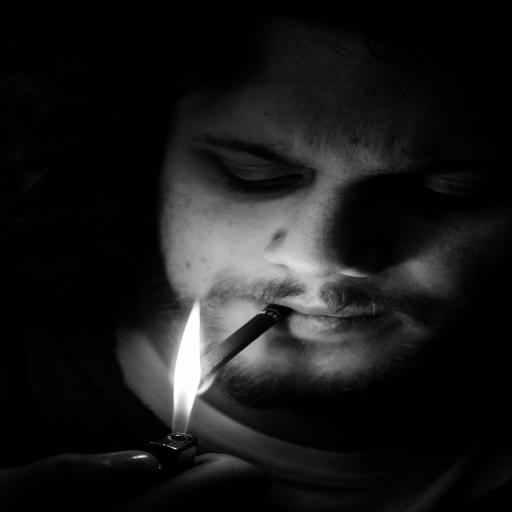membakar rokok: (130, 168, 349, 468)
